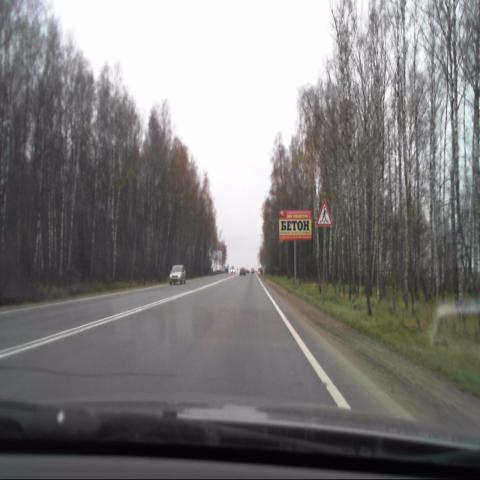1_22: (315, 202, 333, 227)
